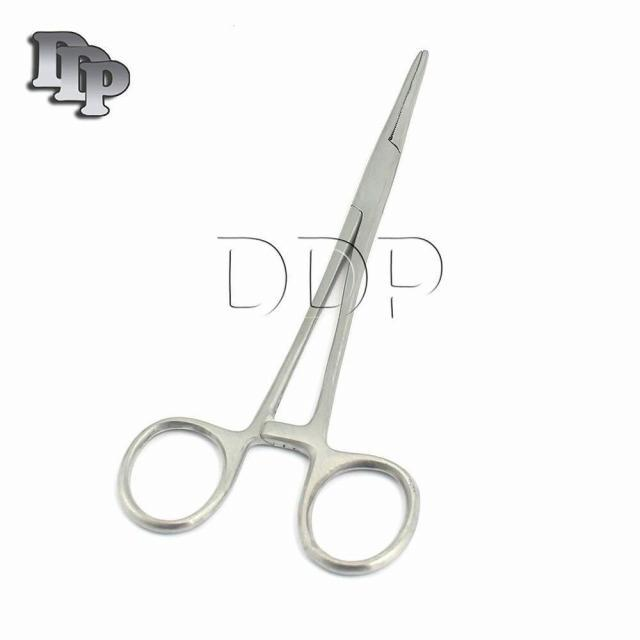Hemostat: (112, 36, 434, 584)
